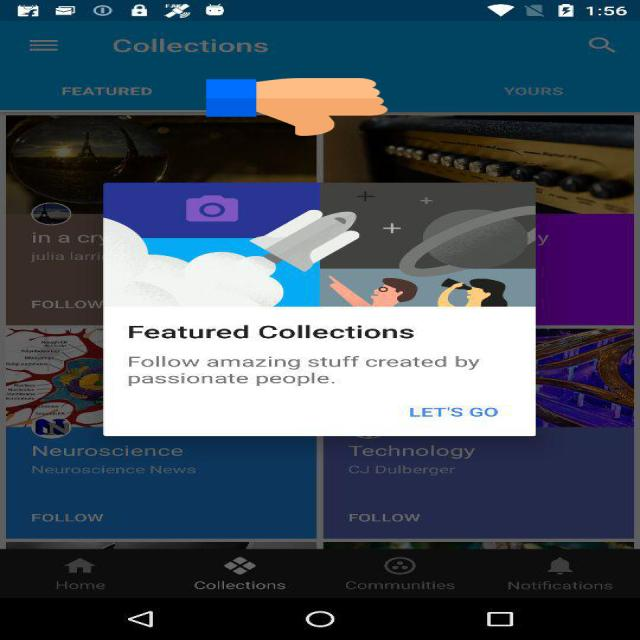obstruction: (206, 77, 388, 137)
